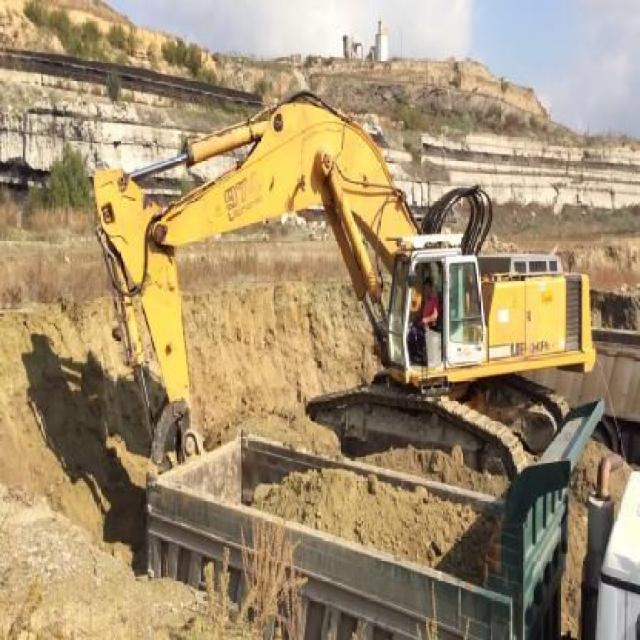Dump Truck: (136, 424, 639, 636)
Excavator: (86, 88, 594, 470)
